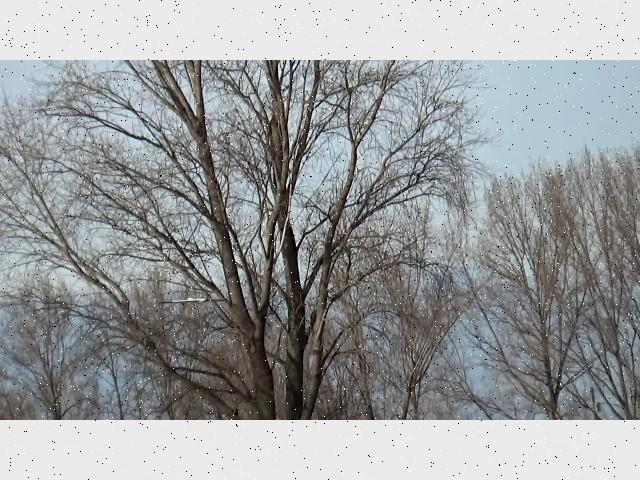Anti-Drone: (157, 298, 225, 304)
